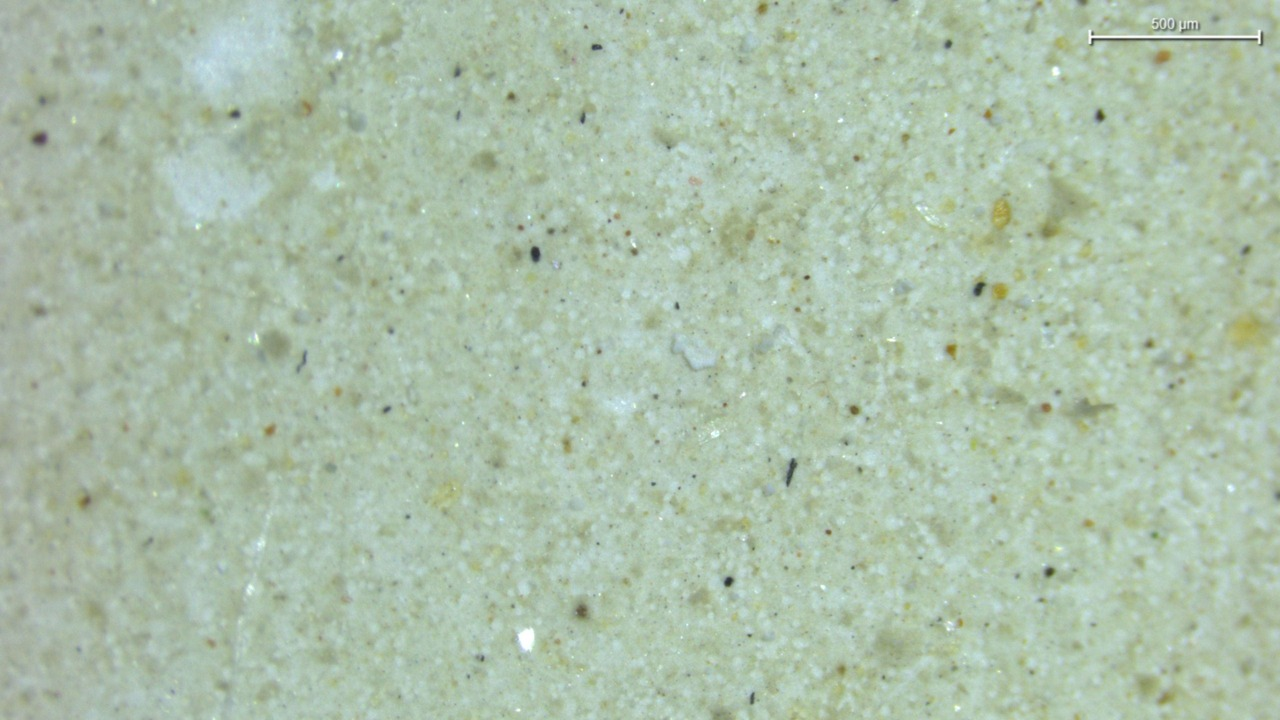microplastic_fragment: (672, 333, 716, 370)
